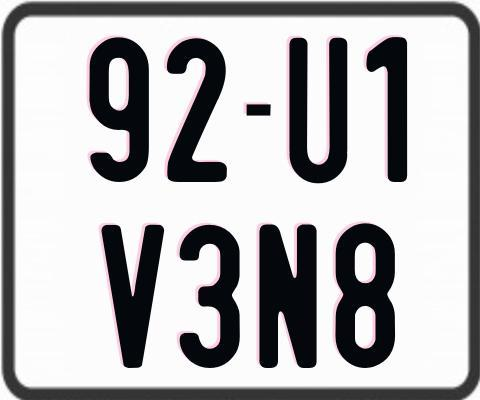1: (363, 35, 409, 180)
2: (164, 37, 226, 187)
3: (179, 222, 242, 368)
8: (334, 220, 394, 365)
9: (86, 34, 150, 181)
N: (258, 222, 317, 367)
U: (288, 36, 346, 181)
V: (100, 223, 163, 370)
